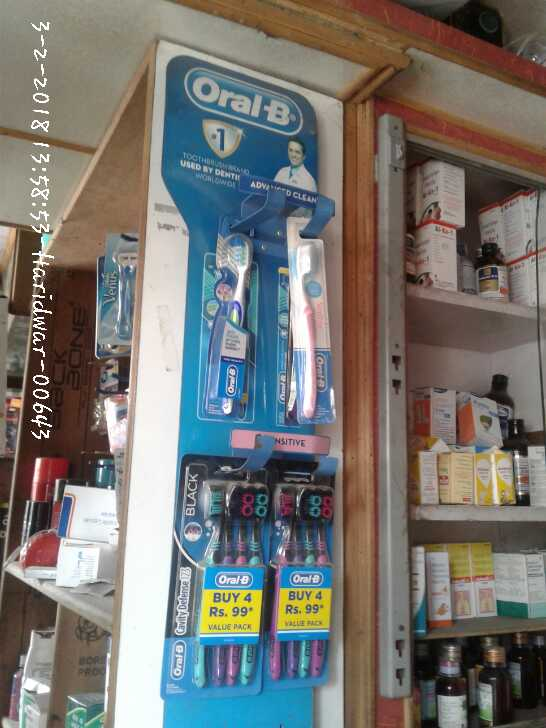beauty: (90, 227, 140, 349)
pharmacy: (194, 470, 271, 692), (270, 476, 332, 688), (198, 227, 263, 406), (284, 234, 340, 414)
